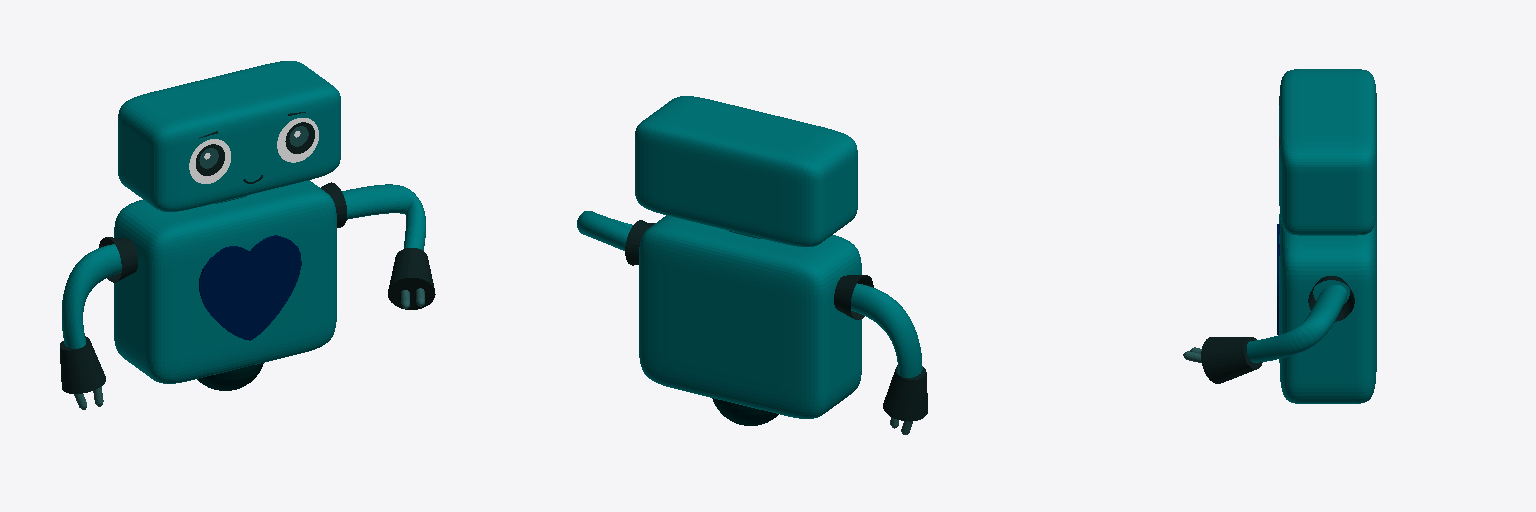
File: robotv6.obj
3 views of the same model, side by side, from view 1: azimuth 30°, elevation 25°; view 2: azimuth 150°, elevation 25°; view 3: azimuth 270°, elevation 25° (orthographic).
Parts seen in each view (by area): view 1: robot_body_Cube.001, robot_head_Cube.002, heart_path4050.002, robot_arm1Path_NurbsPath, robot_arm2Path_NurbsPath.002, robot_handle2_Cylinder.009, robot_handle1_Cylinder.001, robot_base_foot_Sphere, robot_shoulder_1_Circle.005, robot_eye1_sclera_BezierCircle.008, robot_eye2_sclera_BezierCircle.001, robot_shoulder_2_Circle.008; view 2: robot_body_Cube.001, robot_head_Cube.002, robot_arm1Path_NurbsPath, robot_handle1_Cylinder.001, robot_arm2Path_NurbsPath.002, robot_base_foot_Sphere, robot_shoulder_1_Circle.005, robot_shoulder_2_Circle.008; view 3: robot_head_Cube.002, robot_body_Cube.001, robot_arm2Path_NurbsPath.002, robot_handle2_Cylinder.009.
Boxes of the visible parts, box(x1,y1,x2,y2) form: robot_body_Cube.001: box(114, 180, 336, 383); robot_head_Cube.002: box(118, 61, 340, 211); heart_path4050.002: box(199, 235, 301, 340); robot_arm1Path_NurbsPath: box(62, 244, 121, 348); robot_arm2Path_NurbsPath.002: box(342, 184, 425, 250); robot_handle2_Cylinder.009: box(388, 248, 435, 309); robot_handle1_Cylinder.001: box(60, 336, 105, 393); robot_base_foot_Sphere: box(197, 363, 263, 390); robot_shoulder_1_Circle.005: box(99, 237, 137, 282); robot_eye1_sclera_BezierCircle.008: box(189, 139, 230, 183); robot_eye2_sclera_BezierCircle.001: box(277, 118, 318, 162); robot_shoulder_2_Circle.008: box(321, 182, 346, 227); robot_body_Cube.001: box(639, 215, 861, 418); robot_head_Cube.002: box(635, 96, 857, 246); robot_arm1Path_NurbsPath: box(851, 283, 922, 377); robot_handle1_Cylinder.001: box(883, 365, 927, 421); robot_arm2Path_NurbsPath.002: box(577, 211, 632, 250); robot_base_foot_Sphere: box(712, 398, 778, 425); robot_shoulder_1_Circle.005: box(834, 275, 873, 319); robot_shoulder_2_Circle.008: box(625, 220, 651, 265); robot_head_Cube.002: box(1279, 69, 1376, 235); robot_body_Cube.001: box(1279, 212, 1376, 403); robot_arm2Path_NurbsPath.002: box(1247, 285, 1346, 362); robot_handle2_Cylinder.009: box(1201, 337, 1262, 383).
Bounding box in the file's own units: 66.61 × 53.45 × 31.82.